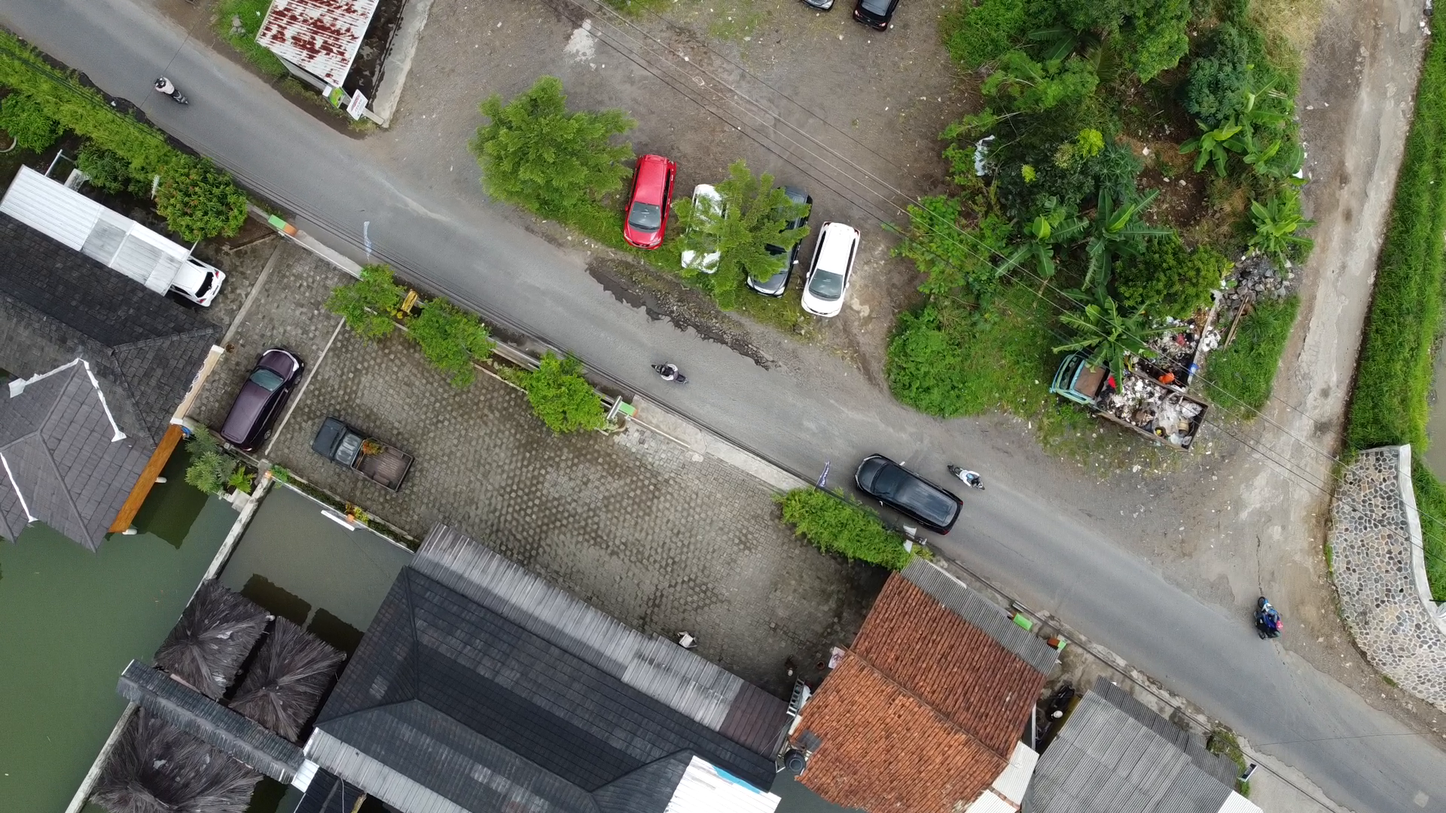mobil: (841, 441, 972, 541), (214, 342, 316, 463), (303, 408, 426, 495), (615, 135, 678, 260), (749, 183, 813, 300), (804, 213, 862, 327), (682, 174, 732, 278), (163, 254, 228, 312)
